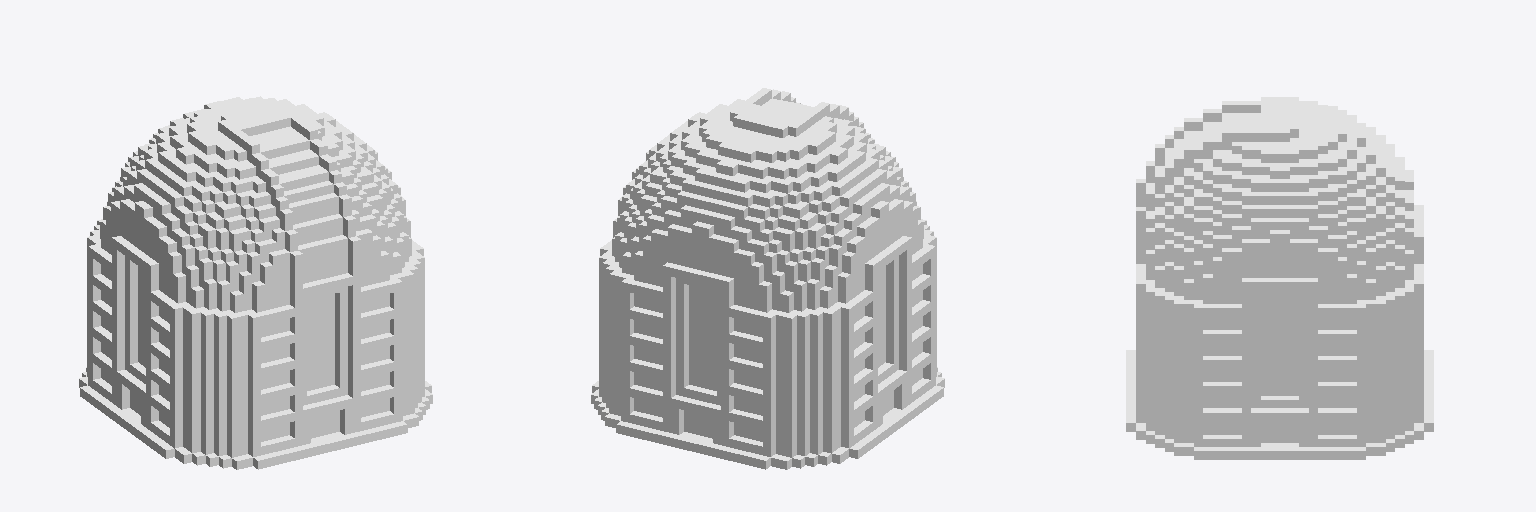
File: researchCenter.obj
The picture shows the model from 3 angles: view 1: azimuth 30°, elevation 25°; view 2: azimuth 150°, elevation 25°; view 3: azimuth 270°, elevation 25°; orthographic projection.
Parts seen in each view (by area): view 1: object 1; view 2: object 1; view 3: object 1.
Part boxes in pixels (left/top/right/bottom): object 1: left=79, top=96, right=432, bottom=469; object 1: left=591, top=88, right=944, bottom=469; object 1: left=1126, top=97, right=1433, bottom=459.
Size of the model in its own units: 3.2 by 3.2 by 3.2.